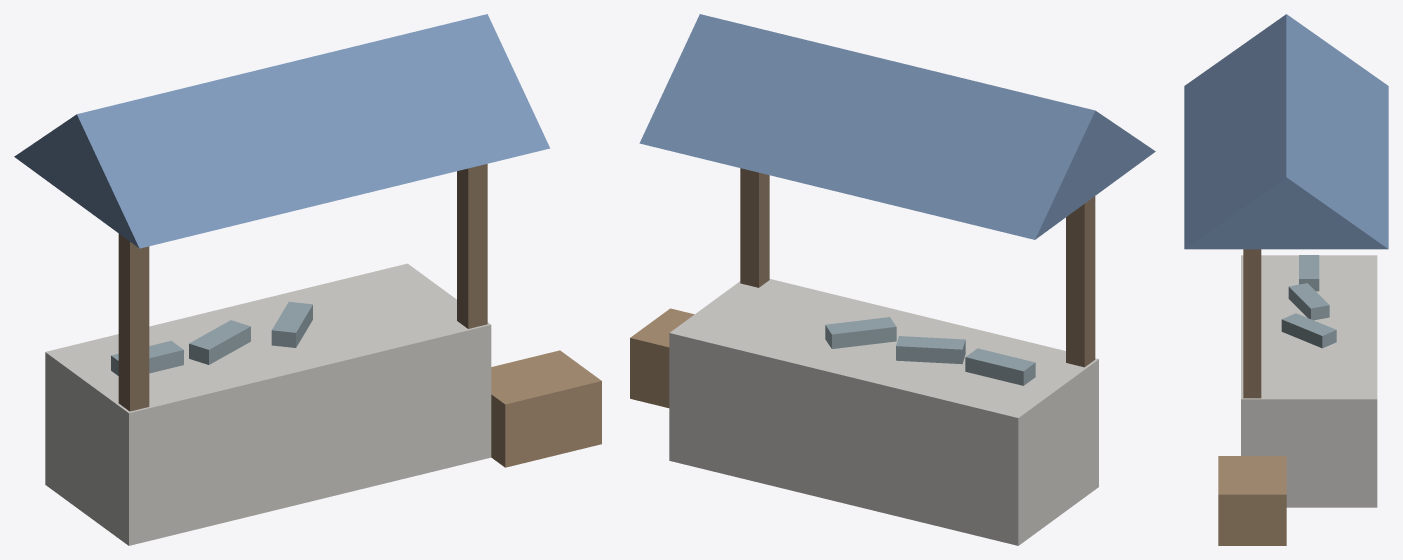
3 renders of one model, left to right at view 1: azimuth 30°, elevation 25°; view 2: azimuth 150°, elevation 25°; view 3: azimuth 270°, elevation 25°, orthographic. The views are drawn at different scales.
Visible parts, largest first — view 1: structure.counter_port; view 2: structure.counter_port; view 3: structure.counter_port.
Boxes of the visible parts, x1,y1,x2,y2 form: structure.counter_port: [14, 14, 601, 545]; structure.counter_port: [630, 14, 1155, 545]; structure.counter_port: [1184, 14, 1388, 545].
Size of the model in its own units: 4 by 3.3 by 1.8.
